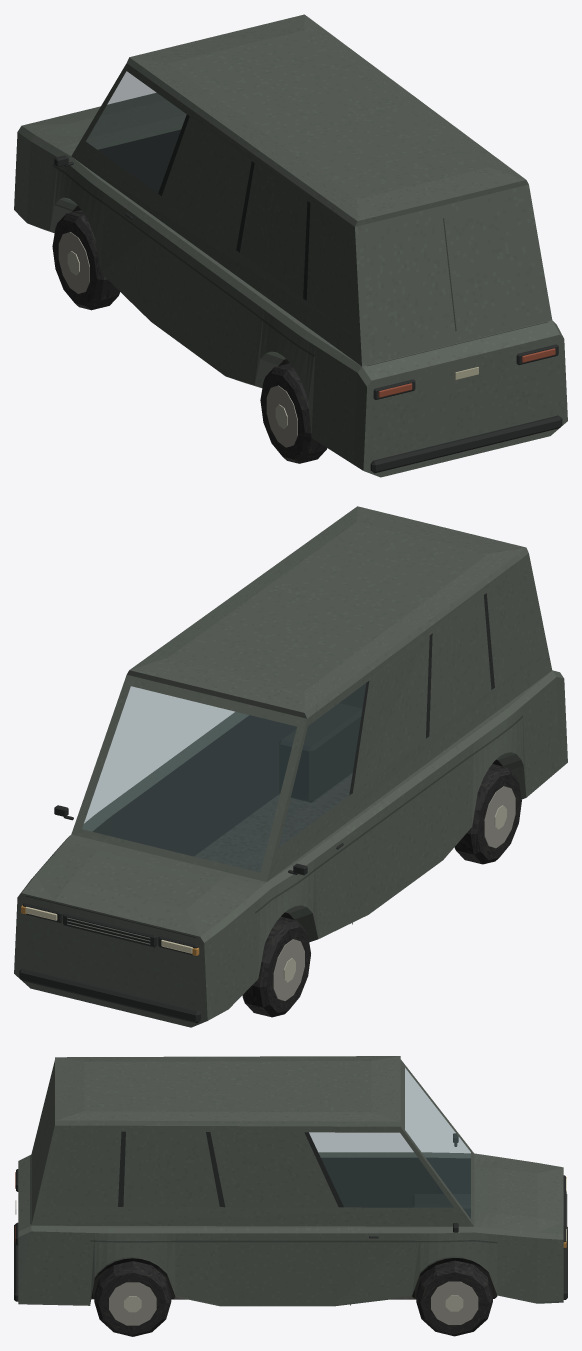
Rendered from vehicle_armored_van.glb.
3 views of the same model, one above another, from view 1: azimuth 30°, elevation 25°; view 2: azimuth 150°, elevation 25°; view 3: azimuth 270°, elevation 25° (orthographic). The views are drawn at different scales.
Parts seen in each view (by area): view 1: closed_body, roof_body, glazing; view 2: closed_body, roof_body, glazing; view 3: closed_body, roof_body, glazing.
Part boxes in pixels (x1,y1,x2,y2): closed_body: (14,63,567,477); roof_body: (127,14,528,226); glazing: (86,71,186,193); closed_body: (14,553,567,1027); roof_body: (127,506,528,718); glazing: (82,683,365,872); closed_body: (14,1059,567,1336); roof_body: (55,1056,400,1126); glazing: (309,1068,470,1218).
Size of the model in its own units: 2.43 by 2.55 by 6.05.
Materials: 2 (2 with a texture image).
